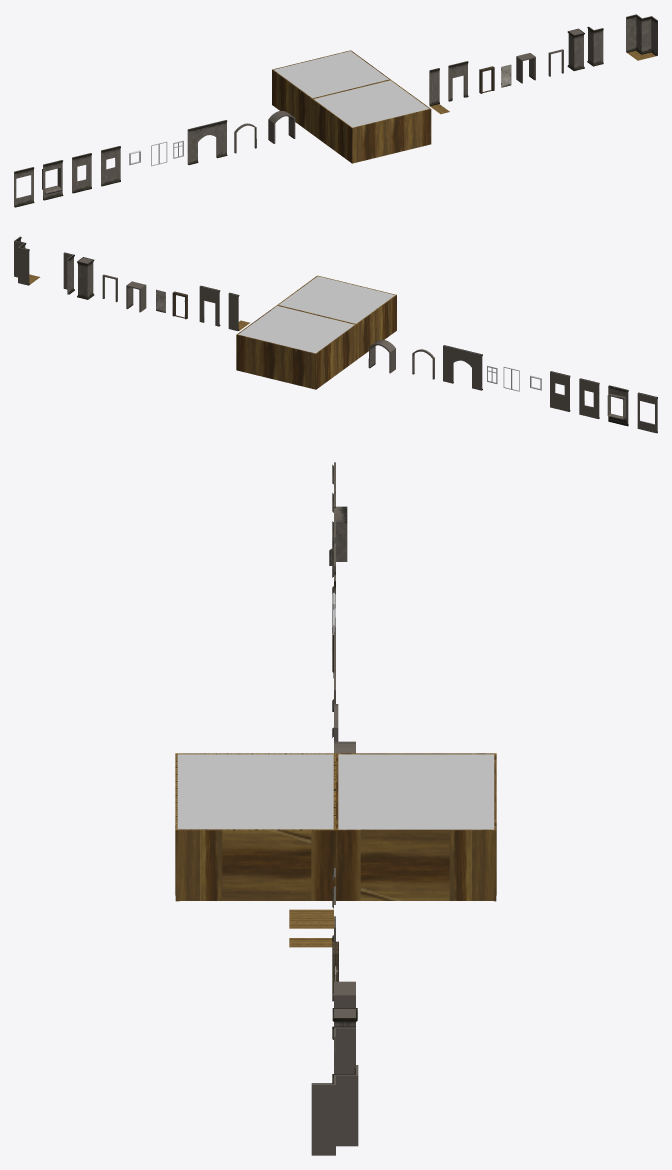
The model's file is LevelDesignSetupRommTest (2).fbx.
The picture shows the model from 3 angles, top to bottom: view 1: azimuth 30°, elevation 25°; view 2: azimuth 150°, elevation 25°; view 3: azimuth 270°, elevation 25°; orthographic projection. The views are drawn at different scales.
Parts seen in each view (by area): view 1: floor_regular_4x2, wall_regular_DoubleCorner, wall_regular_openWay, wall_regular_SmallWindows, wall_regular_pillar, wall_regular_MediumWindows, wall_regular_cornerElement_B, wall_regular_BigWindowsFrame, wall_regular_DoorElement, wall_regular_BeveledHallway, wall_regular_BigWindows, wall_regular_SquareHallWay (+1 smaller); view 2: floor_regular_4x2, wall_regular_openWay, wall_regular_SmallWindows, wall_regular_MediumWindows, wall_regular_pillar, wall_regular_DoubleCorner, wall_regular_BigWindowsFrame, wall_regular_DoorElement, wall_regular_BigWindows, wall_regular_BeveledHallway, wall_regular_SquareHallWay, wall_regular_cornerElement_B (+1 smaller); view 3: floor_regular_4x2, wall_regular_DoubleCorner, wall_regular_cornerElement_B.
Boxes of the visible parts, <box> form: floor_regular_4x2: <box>272,50,431,163</box>; wall_regular_DoubleCorner: <box>626,14,657,55</box>; wall_regular_openWay: <box>187,120,227,164</box>; wall_regular_SmallWindows: <box>101,146,120,186</box>; wall_regular_pillar: <box>567,28,584,70</box>; wall_regular_MediumWindows: <box>72,153,91,193</box>; wall_regular_cornerElement_B: <box>587,26,603,66</box>; wall_regular_BigWindowsFrame: <box>42,160,63,200</box>; wall_regular_DoorElement: <box>448,61,468,101</box>; wall_regular_BeveledHallway: <box>268,110,295,143</box>; wall_regular_BigWindows: <box>14,167,34,207</box>; wall_regular_SquareHallWay: <box>516,53,535,83</box>; floor_regular_4x2: <box>236,275,396,389</box>; wall_regular_openWay: <box>443,345,482,390</box>; wall_regular_SmallWindows: <box>550,371,570,411</box>; wall_regular_MediumWindows: <box>579,378,599,419</box>; wall_regular_pillar: <box>77,257,94,299</box>; wall_regular_DoubleCorner: <box>14,236,29,285</box>; wall_regular_BigWindowsFrame: <box>607,385,628,426</box>; wall_regular_DoorElement: <box>199,285,220,326</box>; wall_regular_BigWindows: <box>637,392,657,433</box>; wall_regular_BeveledHallway: <box>368,340,395,373</box>; wall_regular_SquareHallWay: <box>126,281,146,312</box>; wall_regular_cornerElement_B: <box>63,252,74,294</box>; floor_regular_4x2: <box>175,753,496,901</box>; wall_regular_DoubleCorner: <box>311,1065,358,1155</box>; wall_regular_cornerElement_B: <box>332,1026,355,1073</box>.
Size of the model in its own units: 66.1 by 3.5 by 14.41.
